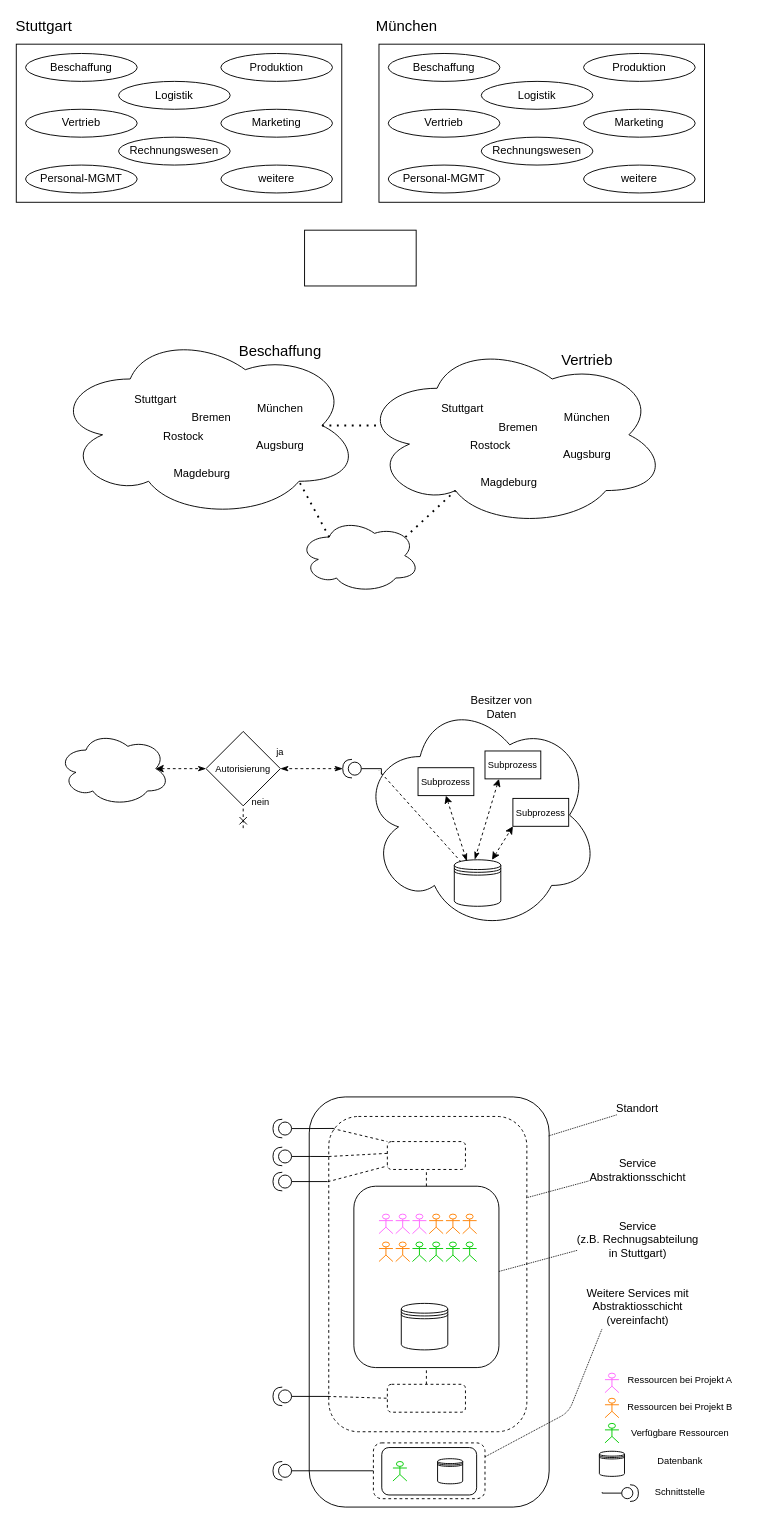
Some shapes in this 761 by 1523 pixel diagram are drawn without their labels. The centre of each missing label's shape, as x and y in pixels:
Anfrager von Daten: the point at 113,768
Kommunikations- middleware: the point at 425,1397
Software- Adapter: the point at 425,1155
Weitere eigenständige Standorte: the point at 360,257
Weitere Geschäftsprozesse: the point at 359,555
